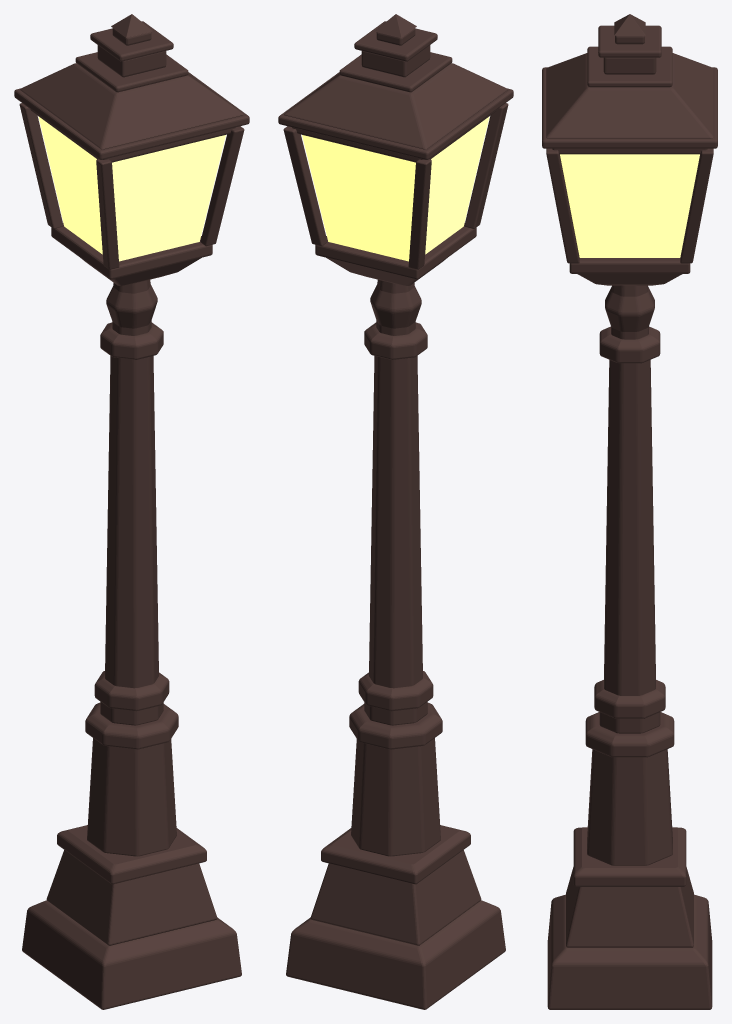
The model's file is prop.street-lamp.glb.
3 views of the same model, side by side, from view 1: azimuth 30°, elevation 25°; view 2: azimuth 150°, elevation 25°; view 3: azimuth 270°, elevation 25° (orthographic).
Size of the model in its own units: 0.64 by 3.87 by 0.64.
